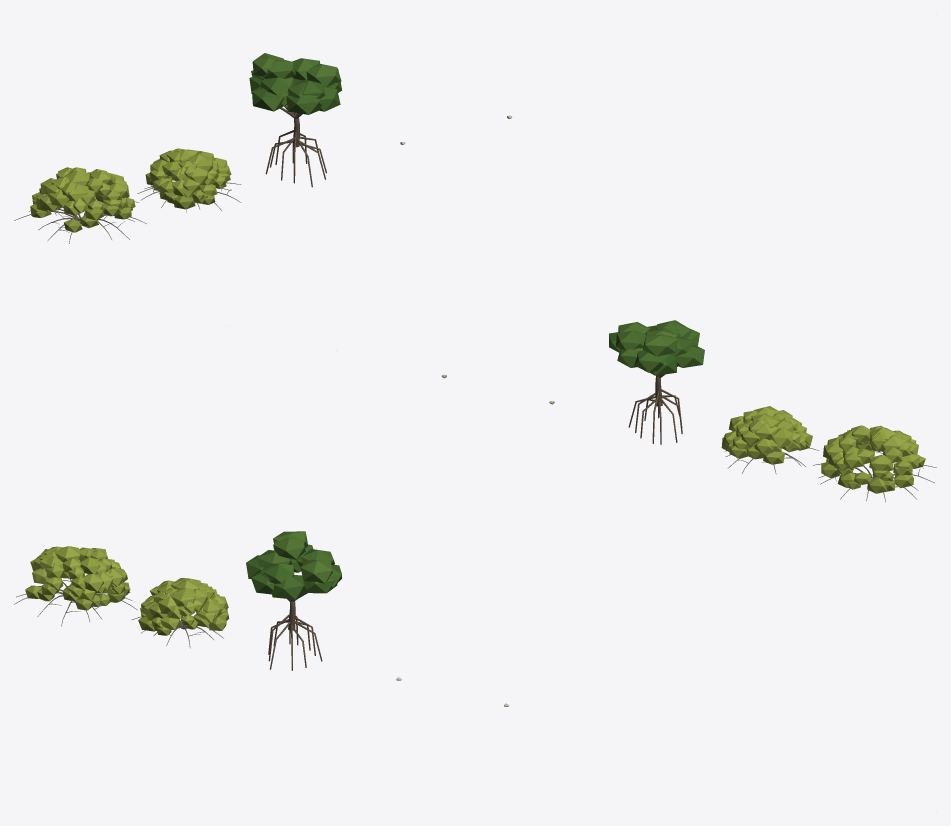
The model's file is dunes.glb.
3 renders of one model, top to bottom at view 1: azimuth 30°, elevation 25°; view 2: azimuth 150°, elevation 25°; view 3: azimuth 330°, elevation 25°, orthographic.
Parts seen in each view (by area): view 1: mangrove, saltbush_0, saltbush_1; view 2: saltbush_0, mangrove, saltbush_1; view 3: mangrove, saltbush_0, saltbush_1.
Boxes of the visible parts, box(x1,y1,x2,y2) form: mangrove: box(249, 53, 342, 187); saltbush_0: box(14, 167, 146, 243); saltbush_1: box(137, 148, 241, 212); saltbush_0: box(813, 425, 936, 502); mangrove: box(609, 320, 704, 444); saltbush_1: box(721, 406, 819, 474); mangrove: box(246, 531, 341, 670); saltbush_0: box(14, 546, 137, 626); saltbush_1: box(132, 578, 229, 648).
Bounding box in the file's own units: 8.52 × 0.9784 × 1.02.
